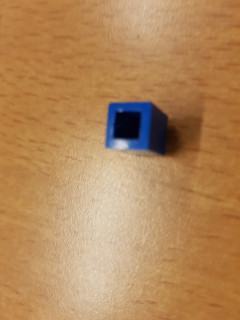1x1 blue: (101, 98, 171, 159)
